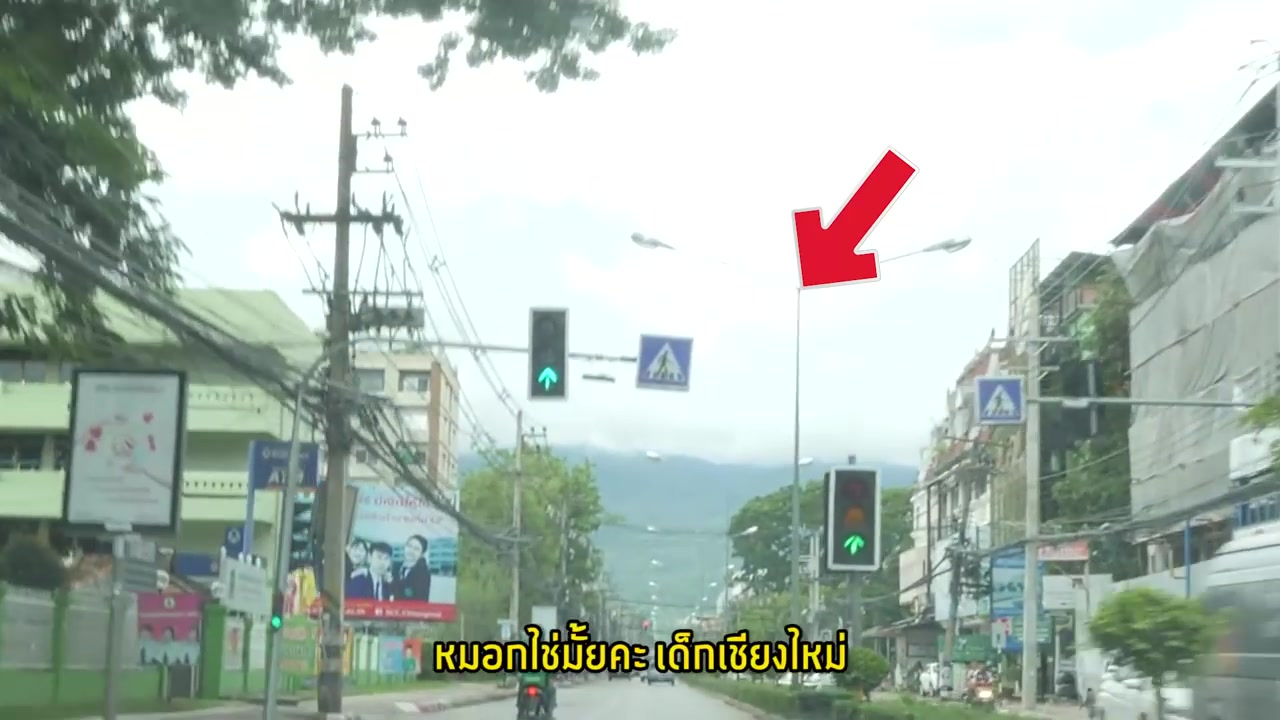text-label: (433, 615, 850, 680)
